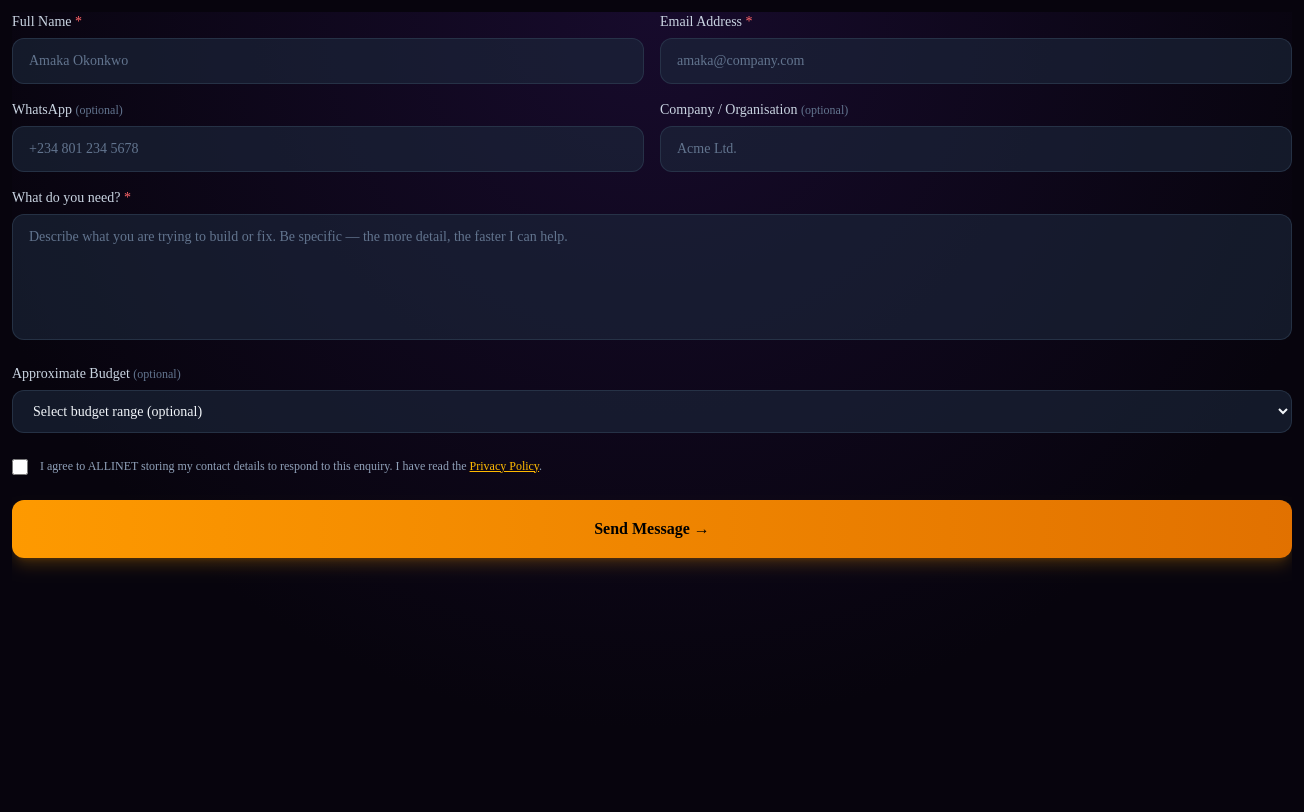
Test case: TASK-P5-07: Contact Page & Form › displays validation errors when submitting empty form
Click the button "Send Message →": (652, 529) [12,500,1292,558]
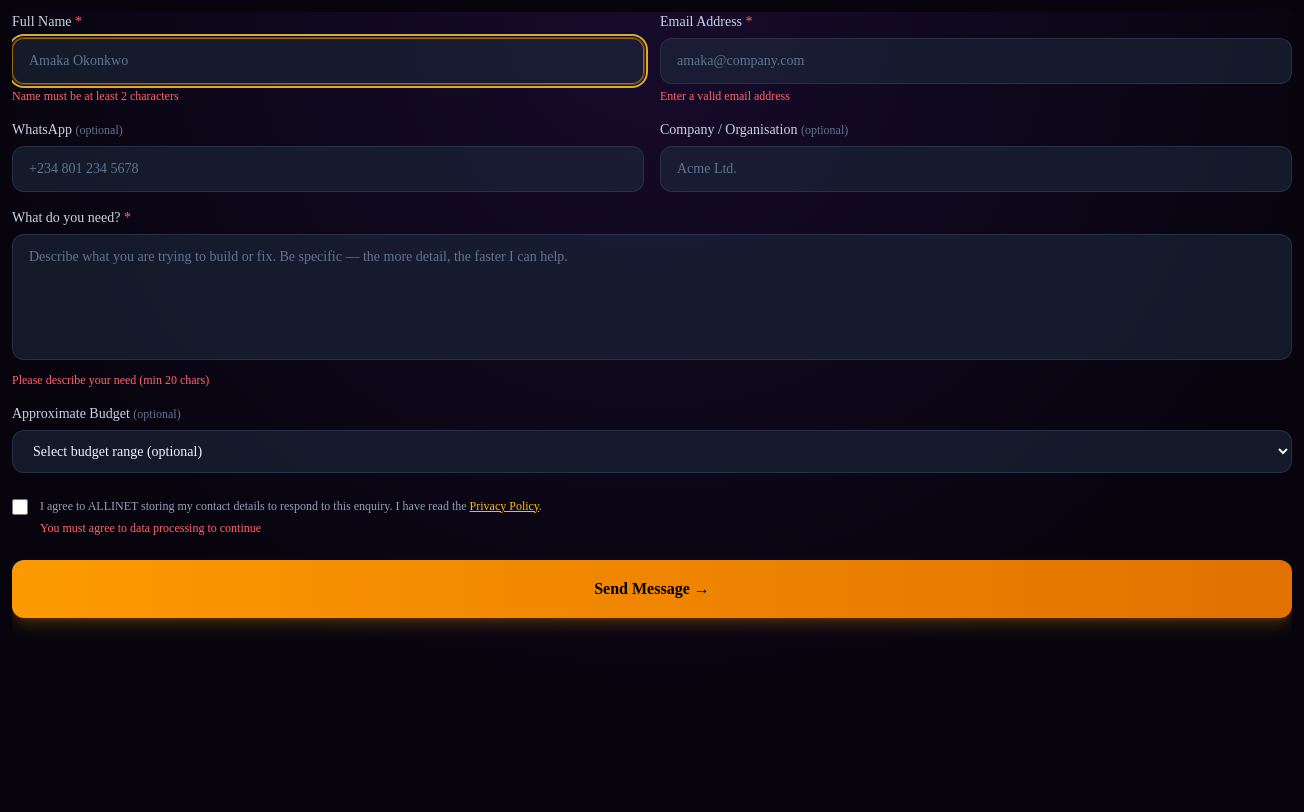
Result: the text "Name must be at least 2 characters" is shown at [12,89,179,103]
